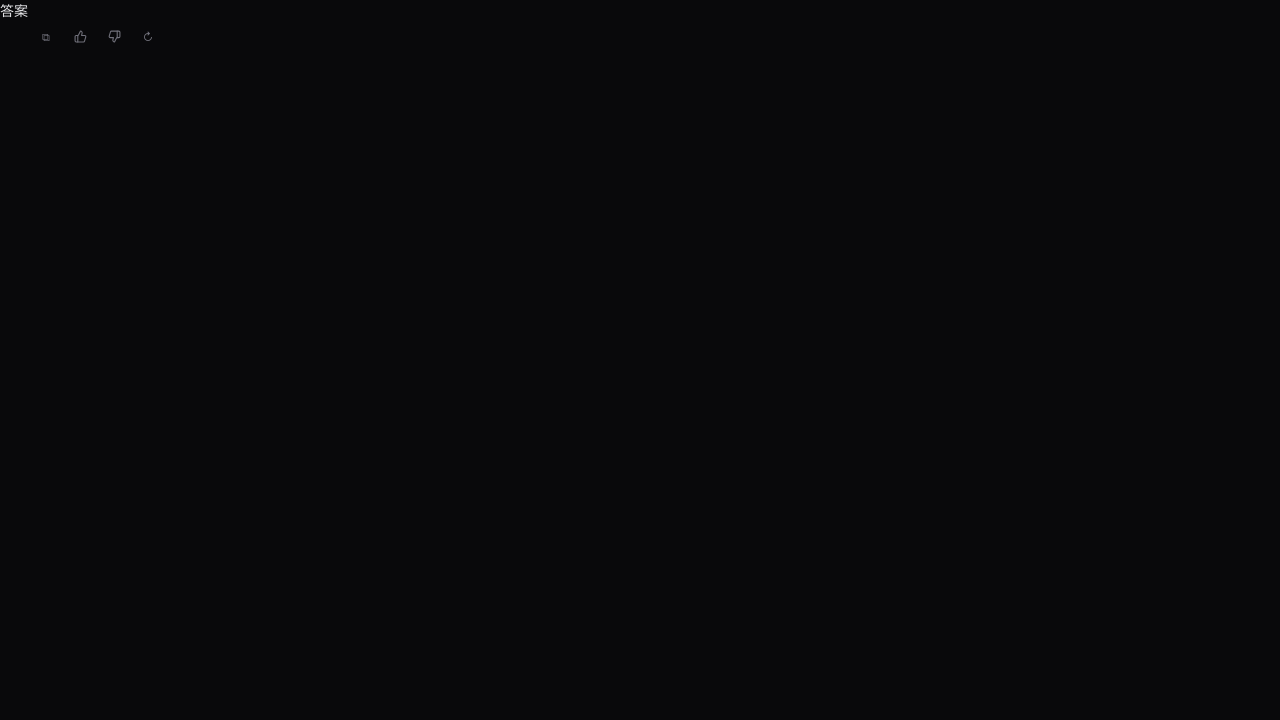
Test case: AgentTranscript 反馈交互 › 提交失败保留弹层并显示具体原因（说明太长）
Click the button named "这条回答没帮助": click(114, 37) x1=100 y1=23 x2=128 y2=51
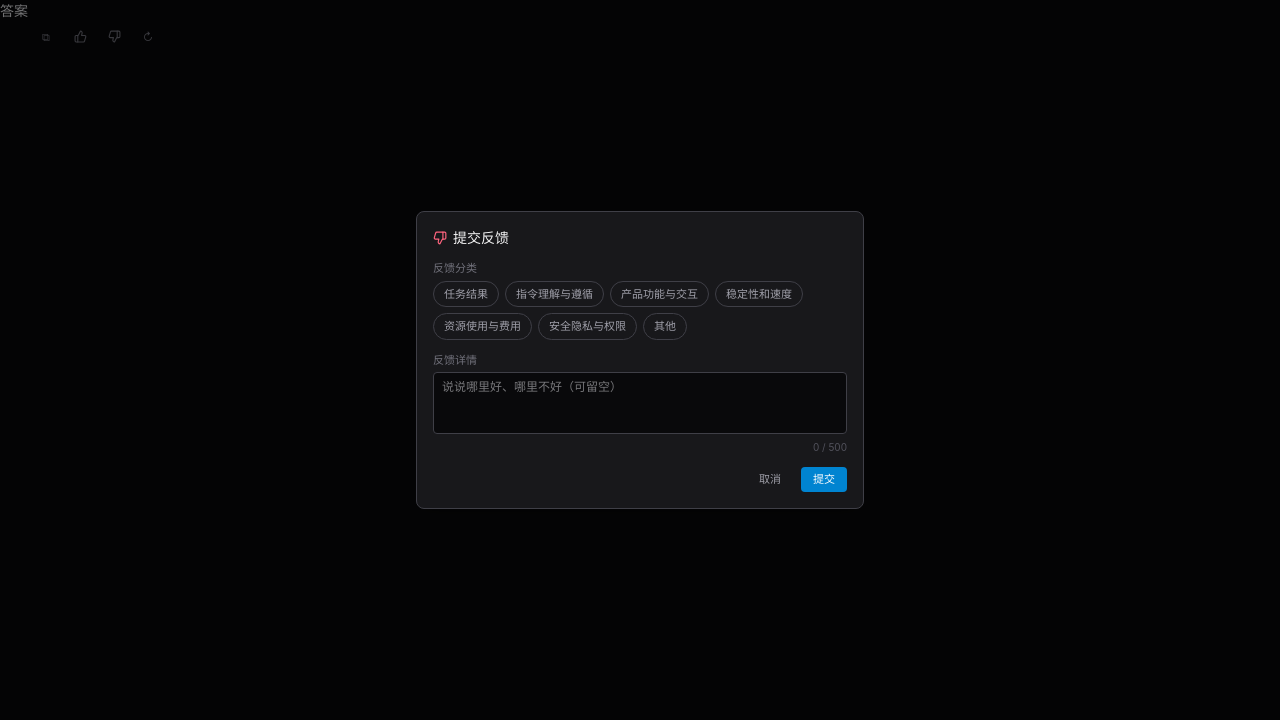
Result: the dialog is shown at x1=416 y1=211 x2=864 y2=509
Click the button "提交": click(824, 480) x1=801 y1=467 x2=847 y2=492
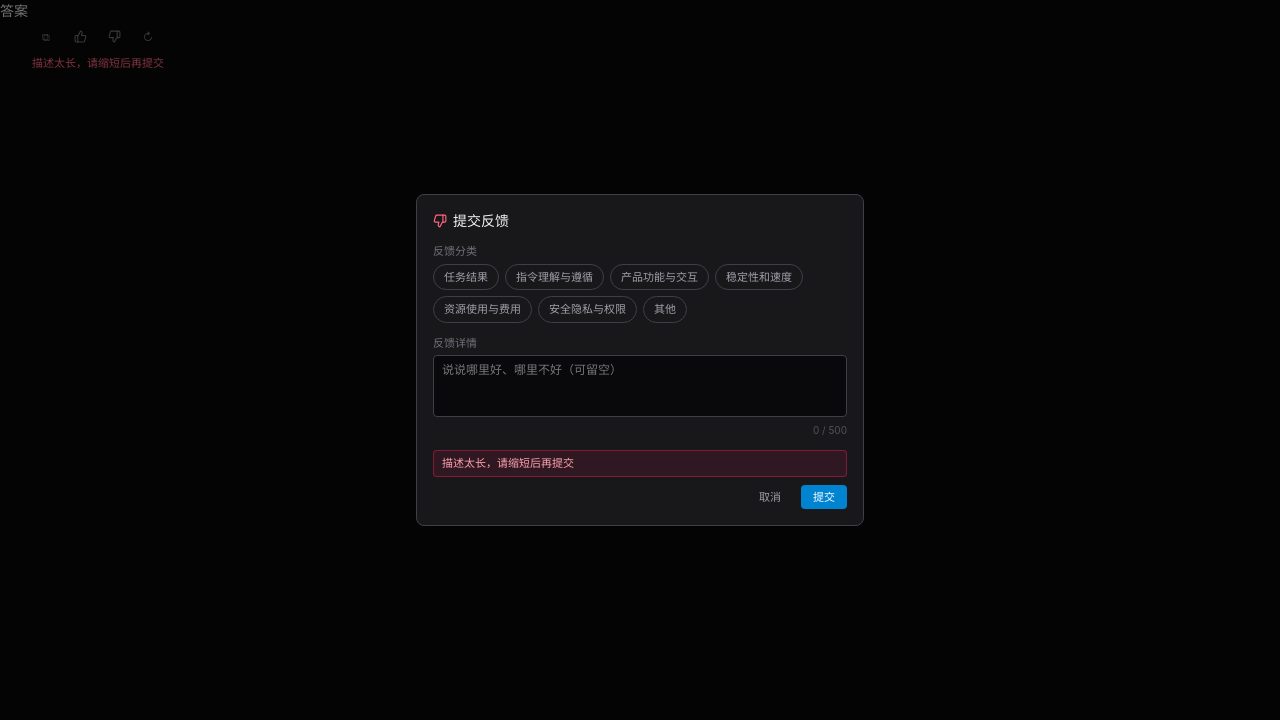
Result: the dialog is shown at x1=416 y1=194 x2=864 y2=526
Result: the message reads "描述太长，请缩短后再提交" at x1=442 y1=456 x2=574 y2=470
